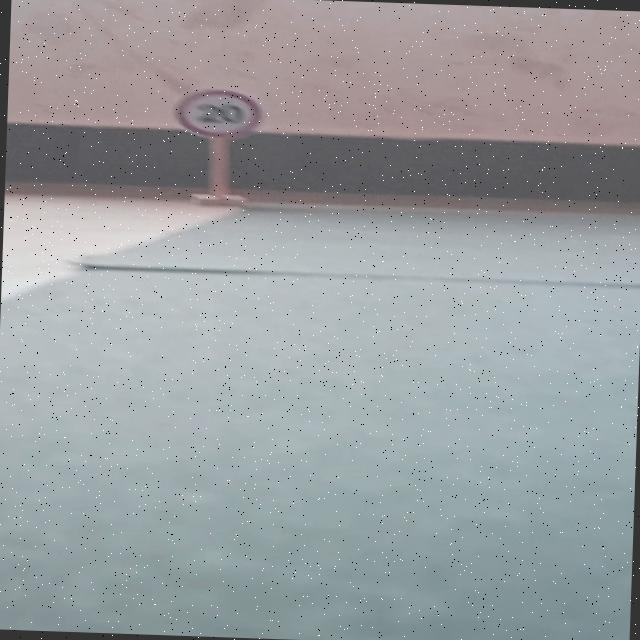Speed20: (160, 81, 272, 146)
